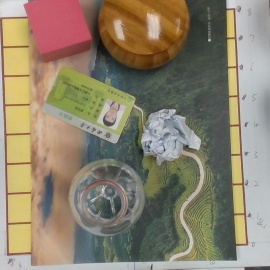bottle: (69, 158, 145, 238)
card: (45, 66, 135, 144)
chess: (92, 1, 191, 69)
